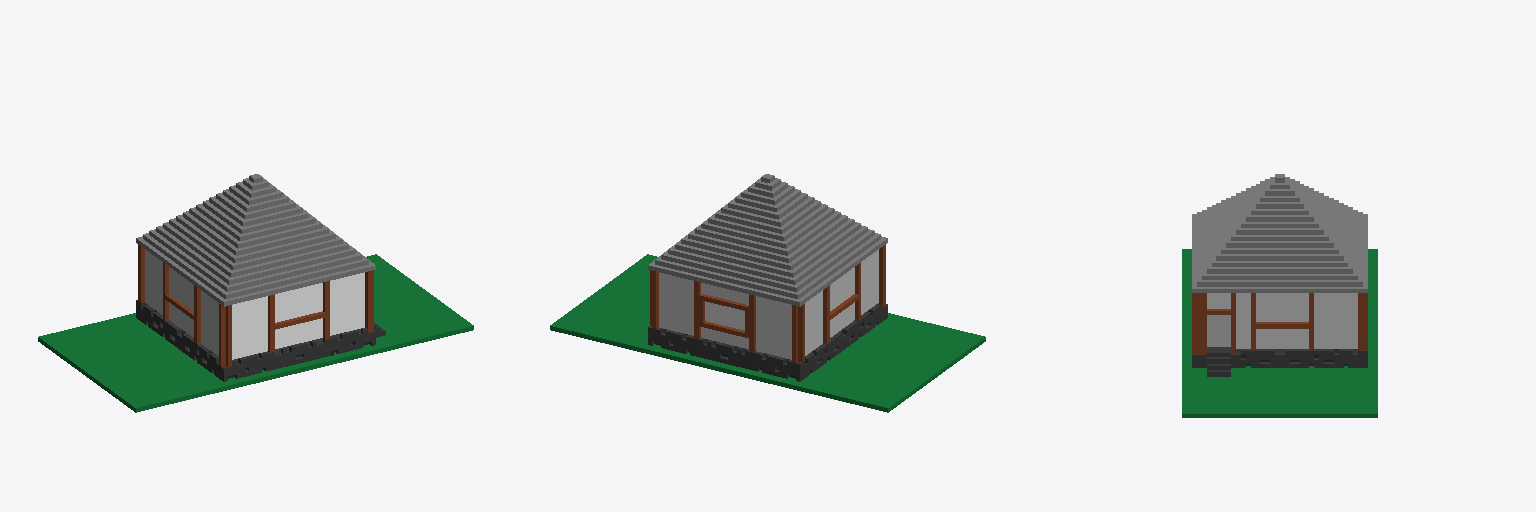
3 views of the same model, side by side, from view 1: azimuth 30°, elevation 25°; view 2: azimuth 150°, elevation 25°; view 3: azimuth 270°, elevation 25° (orthographic).
Parts seen in each view (by area): view 1: object 1; view 2: object 1; view 3: object 1.
Part boxes in pixels (bbox=[...]): object 1: bbox=[38, 174, 473, 412]; object 1: bbox=[550, 174, 985, 412]; object 1: bbox=[1182, 174, 1377, 417].
Bounding box in the file's own units: 8 × 3.6 × 4.
1 materials, 1 textured.